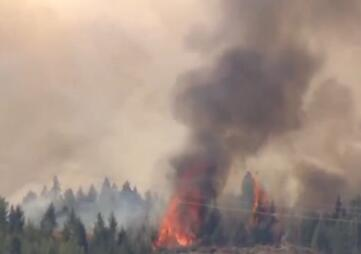fire: (152, 166, 211, 246)
yanwu: (0, 0, 361, 227)
